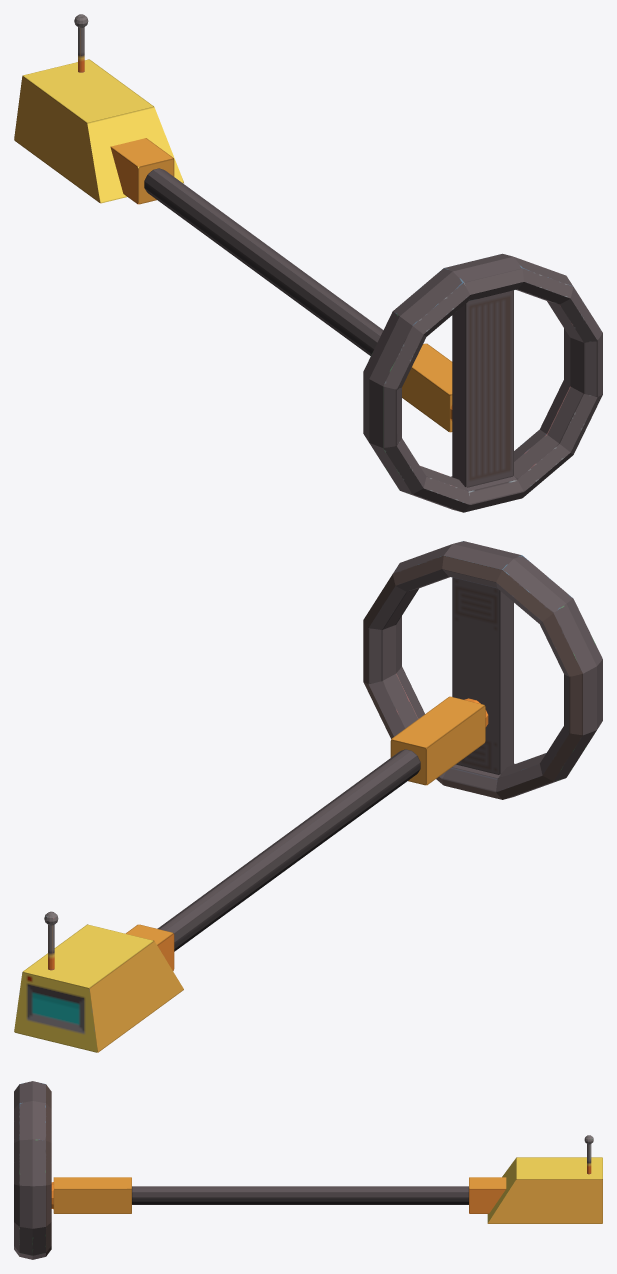
File: MetalDetector.fbx
3 views of the same model, one above another, from view 1: azimuth 30°, elevation 25°; view 2: azimuth 150°, elevation 25°; view 3: azimuth 270°, elevation 25° (orthographic). The views are drawn at different scales.
Parts seen in each view (by area): view 1: torus, Body, cuboid, tube, Pole_1, Pole; view 2: torus, Body, cuboid, tube, Pole_1, Pole; view 3: Body, torus, tube, Pole_1, Pole.
Part boxes in pixels (<box>): torus: <box>363,253,602,512</box>; Body: <box>14,59,183,203</box>; cuboid: <box>452,290,513,487</box>; tube: <box>144,168,383,355</box>; Pole_1: <box>402,343,452,432</box>; Pole: <box>110,138,174,204</box>; torus: <box>363,541,602,799</box>; Body: <box>14,924,183,1052</box>; cuboid: <box>452,577,513,774</box>; tube: <box>157,749,420,951</box>; Pole_1: <box>390,696,485,785</box>; Pole: <box>126,924,174,970</box>; Body: <box>487,1157,602,1223</box>; torus: <box>14,1081,51,1259</box>; tube: <box>132,1186,468,1204</box>; Pole_1: <box>53,1177,131,1213</box>; Pole: <box>469,1177,506,1213</box>.
Bounding box in the file's own units: 119 × 119 × 399.
1 material, 1 textured.
